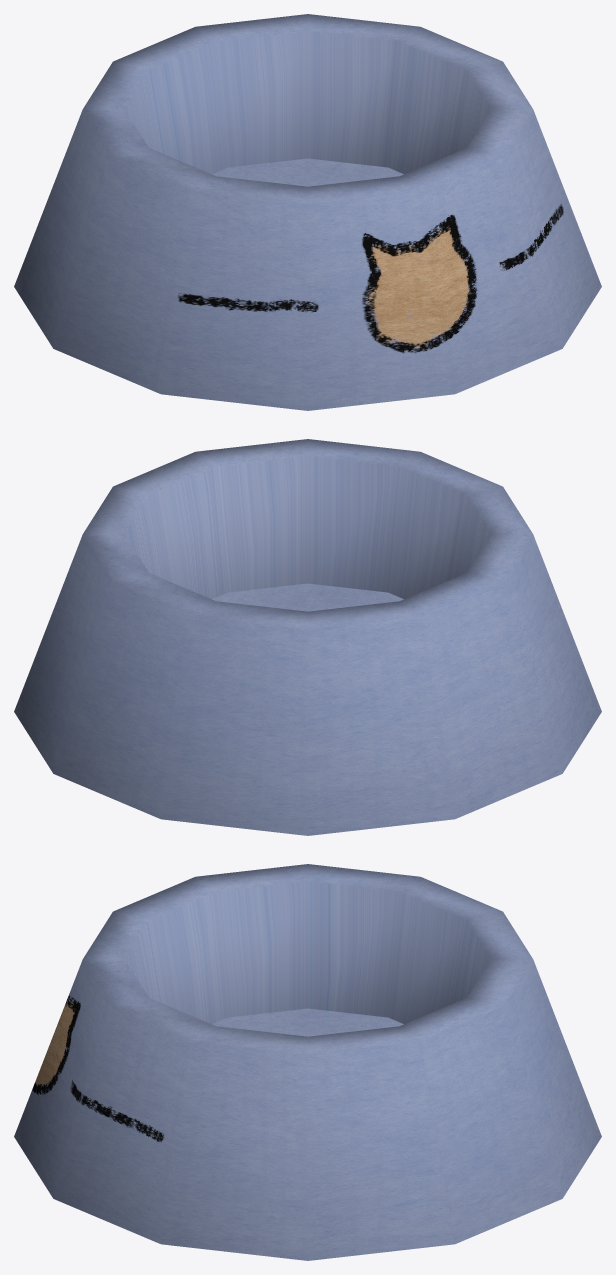
The model's file is 20s_CatBowl 1.fbx.
3 renders of one model, top to bottom at view 1: azimuth 30°, elevation 25°; view 2: azimuth 150°, elevation 25°; view 3: azimuth 270°, elevation 25°, orthographic.
Parts seen in each view (by area): view 1: 20s_CatBowl; view 2: 20s_CatBowl; view 3: 20s_CatBowl.
Part boxes in pixels (x1,y1,x2,y2): 20s_CatBowl: (14,14,601,410); 20s_CatBowl: (14,439,601,835); 20s_CatBowl: (14,864,601,1260).
Size of the model in its own units: 90.17 by 30.04 by 90.17.
Materials: 1 (1 with a texture image).
